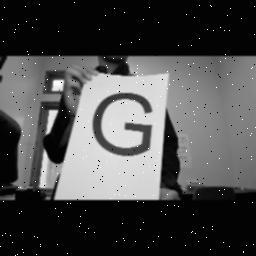g: (85, 88, 157, 164)
